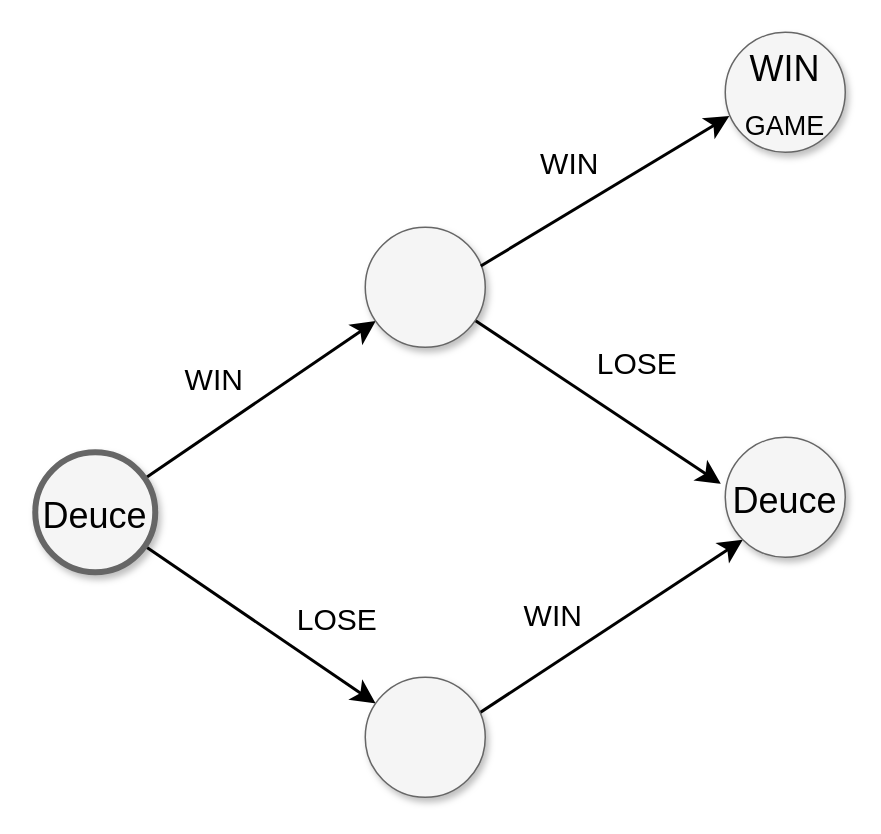
The diagram is 881 pixels wide and 834 high, and some of its shapes have lost their labels. Each missing label, with the centre of its shape:
AD IN: the point at 426,289
AD OUT: the point at 426,739
